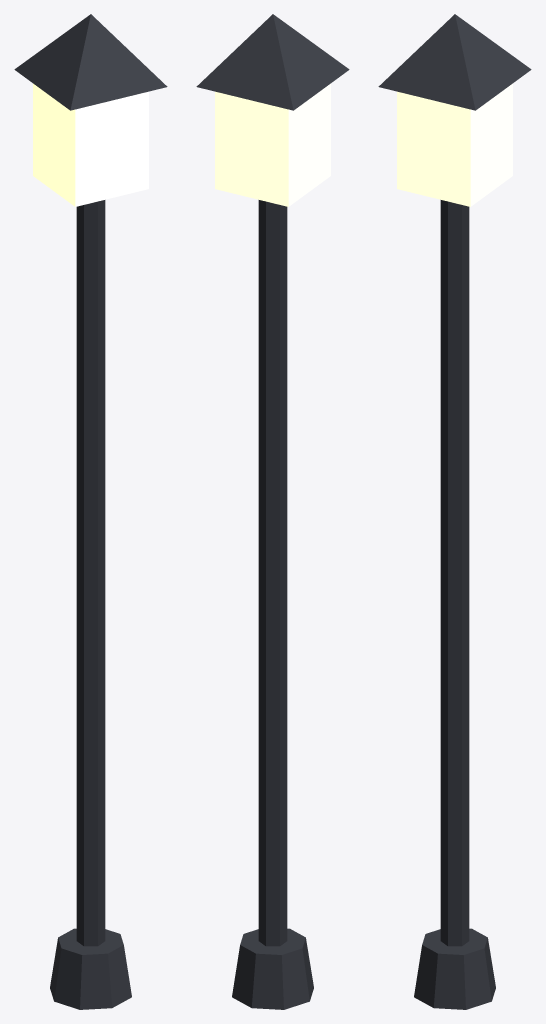
The model's file is town_street_lamp.glb.
3 renders of one model, left to right at view 1: azimuth 30°, elevation 25°; view 2: azimuth 150°, elevation 25°; view 3: azimuth 330°, elevation 25°, orthographic.
Visible parts, largest first — view 1: street_lamp; view 2: street_lamp; view 3: street_lamp.
Boxes of the visible parts, x1=… form: street_lamp: x1=14, y1=14, x2=167, y2=1009; street_lamp: x1=196, y1=14, x2=349, y2=1009; street_lamp: x1=378, y1=14, x2=531, y2=1009.
Size of the model in its own units: 0.396 by 3.81 by 0.396.
